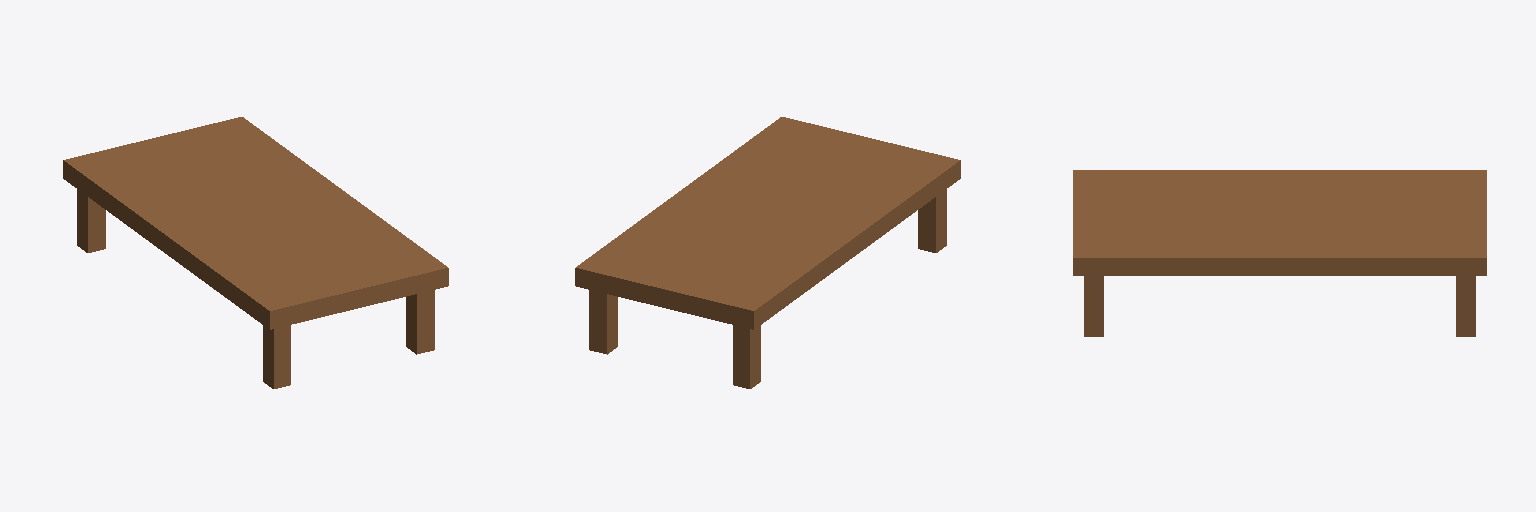
File: dine_table.obj
3 views of the same model, side by side, from view 1: azimuth 30°, elevation 25°; view 2: azimuth 150°, elevation 25°; view 3: azimuth 270°, elevation 25° (orthographic).
Parts seen in each view (by area): view 1: table_mesh_Cube; view 2: table_mesh_Cube; view 3: table_mesh_Cube.
Part boxes in pixels (bbox=[...]): table_mesh_Cube: bbox=[63, 117, 448, 388]; table_mesh_Cube: bbox=[575, 117, 960, 388]; table_mesh_Cube: bbox=[1073, 170, 1486, 336].
Bounding box in the file's own units: 1 × 0.45 × 2.